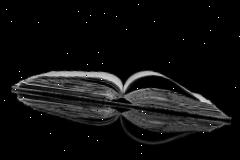paper: (6, 51, 236, 154)
